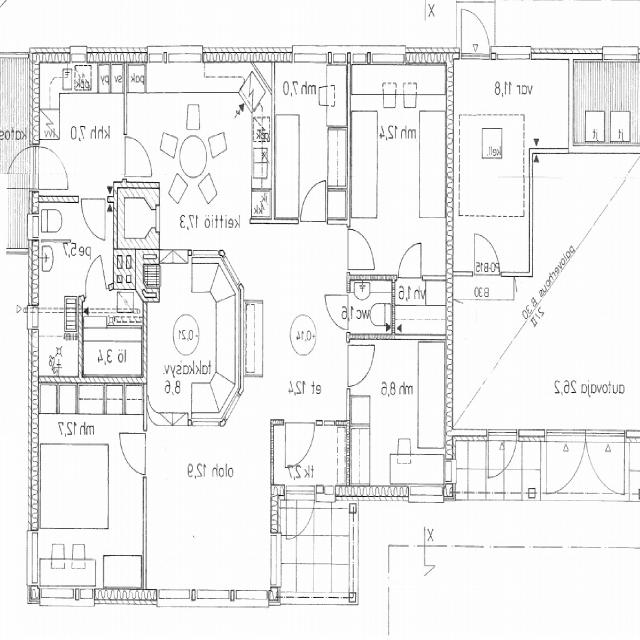door: (546, 430, 586, 503), (586, 430, 625, 503), (286, 486, 315, 546), (488, 430, 517, 486), (461, 3, 490, 58), (1, 147, 38, 189), (29, 147, 66, 189), (286, 421, 314, 471), (80, 254, 107, 300), (346, 229, 376, 269), (118, 434, 147, 475), (347, 346, 376, 386), (124, 137, 153, 177), (301, 180, 326, 224), (474, 234, 500, 276), (82, 196, 105, 240), (399, 241, 421, 281), (325, 296, 350, 330)
